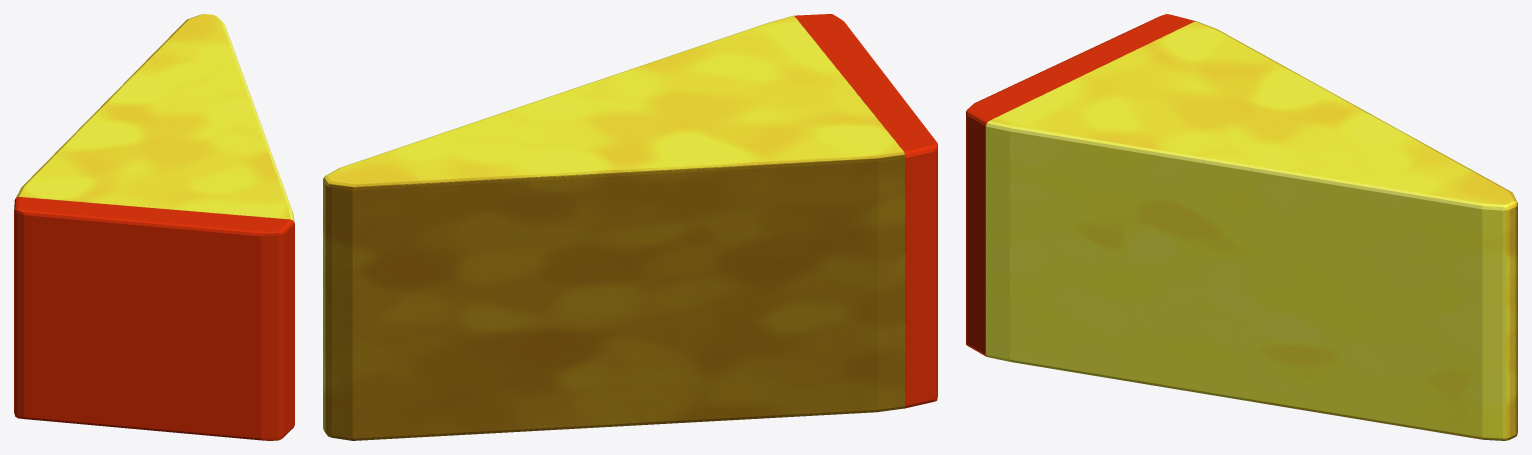
Rendered from cheese.fbx.
The picture shows the model from 3 angles, left to right: view 1: azimuth 30°, elevation 25°; view 2: azimuth 150°, elevation 25°; view 3: azimuth 270°, elevation 25°; orthographic projection. The views are drawn at different scales.
Parts seen in each view (by area): view 1: Cube; view 2: Cube; view 3: Cube.
Part boxes in pixels (box(x1,y1,x2,y2)): Cube: box(14, 14, 294, 440); Cube: box(323, 14, 937, 440); Cube: box(966, 14, 1517, 440).
Bounding box in the file's own units: 58.73 × 33.41 × 70.76.
2 materials, 1 textured.
